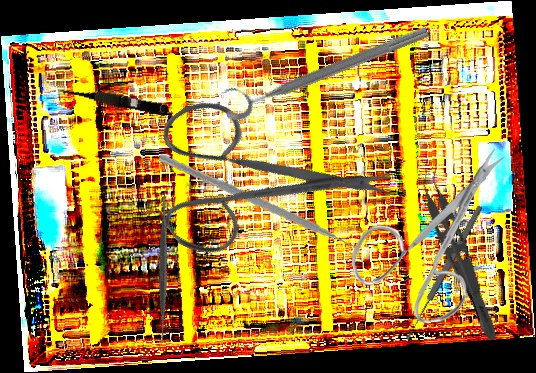Chopper: (158, 130, 365, 292)
Fixation Ring: (217, 9, 432, 125)
Iris Scissors: (116, 33, 399, 311), (348, 146, 511, 326)
Micro Scissor: (54, 81, 171, 117)
Spatula Surgical: (82, 185, 245, 349)
Surgical Spoon: (402, 203, 485, 342)
Tissue Forceps: (410, 164, 514, 344)
